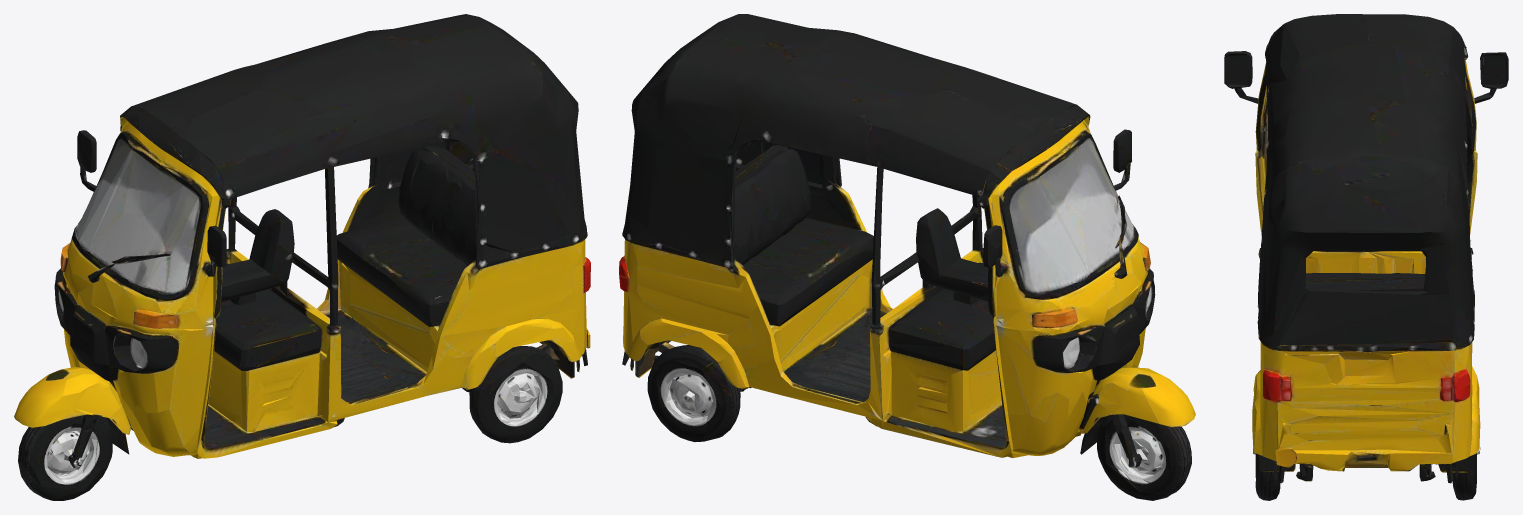
Rendered from auto.glb.
The picture shows the model from 3 angles, left to right: view 1: azimuth 30°, elevation 25°; view 2: azimuth 150°, elevation 25°; view 3: azimuth 270°, elevation 25°; orthographic projection.
Size of the model in its own units: 1.9 by 1.28 by 0.9022.
Materials: 1 (1 with a texture image).
